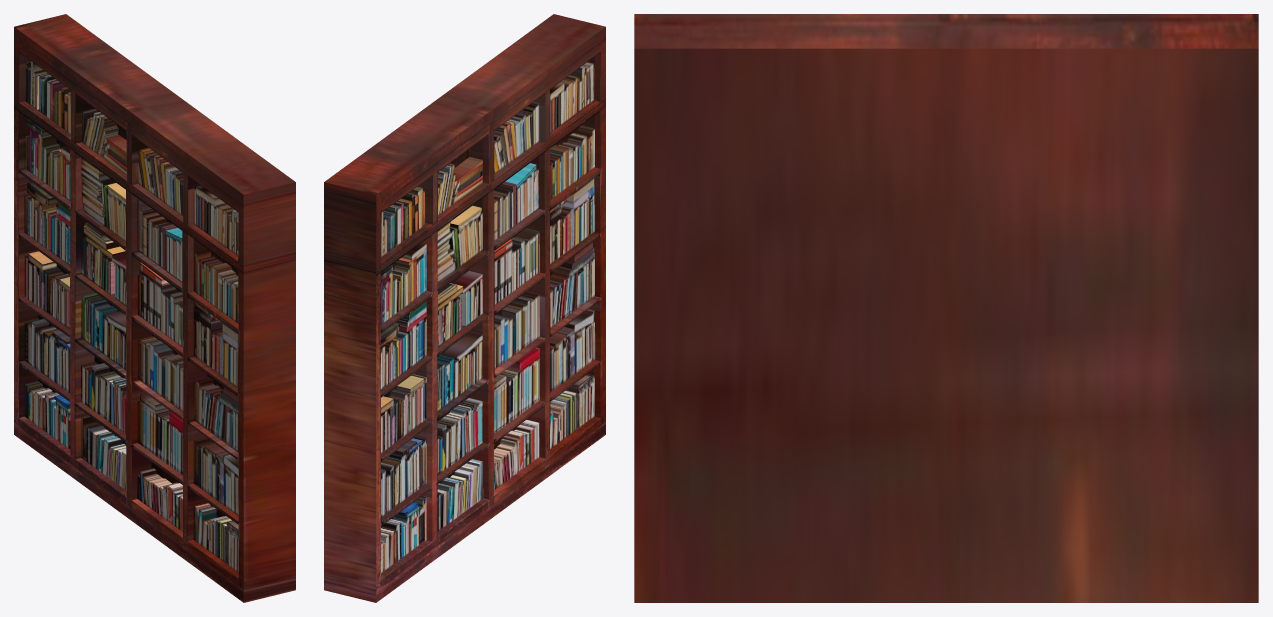
File: bookshelf.glb
3 views of the same model, side by side, from view 1: azimuth 30°, elevation 25°; view 2: azimuth 150°, elevation 25°; view 3: azimuth 270°, elevation 25° (orthographic). The views are drawn at different scales.
Parts seen in each view (by area): view 1: Screenshot 2024-09-09 151143; view 2: Screenshot 2024-09-09 151143; view 3: Screenshot 2024-09-09 151143.
Boxes of the visible parts, x1,y1,x2,y2 form: Screenshot 2024-09-09 151143: (14,14,295,602); Screenshot 2024-09-09 151143: (324,14,605,602); Screenshot 2024-09-09 151143: (634,14,1258,602).
Bounding box in the file's own units: 0.1336 × 1 × 1.02.
Materials: 1 (1 with a texture image).
